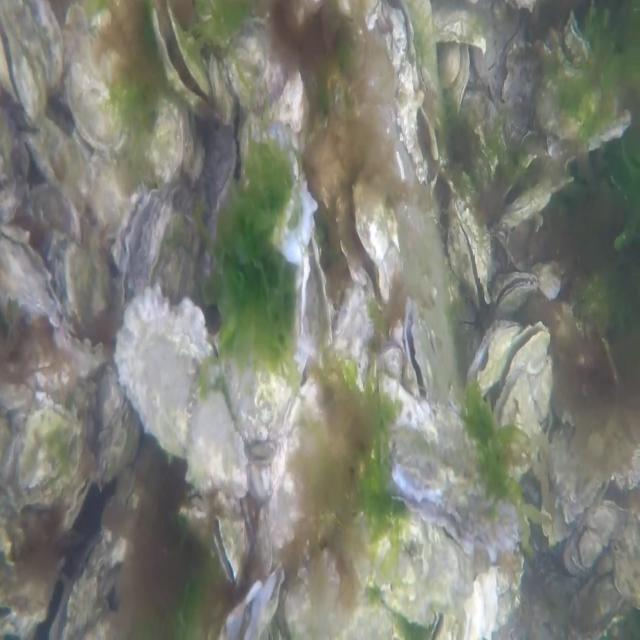Oyster-Closed: (64, 23, 132, 154), (502, 176, 574, 232), (57, 458, 103, 543), (406, 0, 439, 94), (55, 326, 109, 374), (379, 343, 405, 382)
Oyster-Indeterminate: (120, 293, 252, 504), (351, 516, 478, 630), (266, 377, 330, 551), (5, 404, 86, 501), (26, 123, 94, 225), (56, 241, 114, 342), (332, 284, 373, 386), (146, 104, 189, 191)
Oyster-Open: (227, 11, 320, 271), (388, 420, 524, 564), (377, 0, 438, 181), (50, 520, 142, 640), (334, 169, 397, 308), (147, 0, 218, 119), (0, 226, 67, 336), (546, 412, 610, 522), (494, 323, 553, 433), (0, 0, 47, 128), (218, 559, 285, 640), (449, 200, 498, 310), (298, 233, 333, 372), (112, 190, 158, 294), (468, 322, 522, 392), (404, 301, 437, 407), (213, 516, 249, 584), (496, 272, 538, 314)
